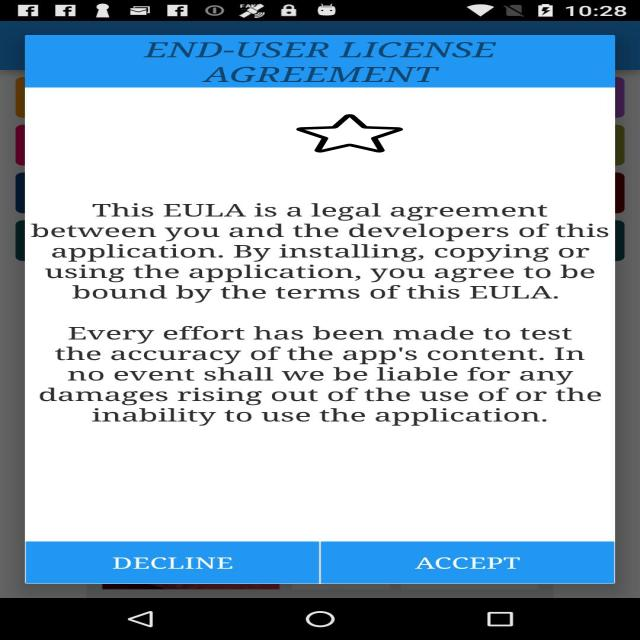forced continuity: (296, 114, 403, 154)
